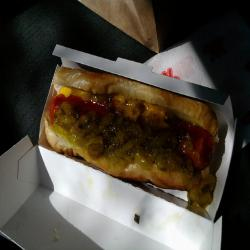burger: (36, 66, 229, 209)
